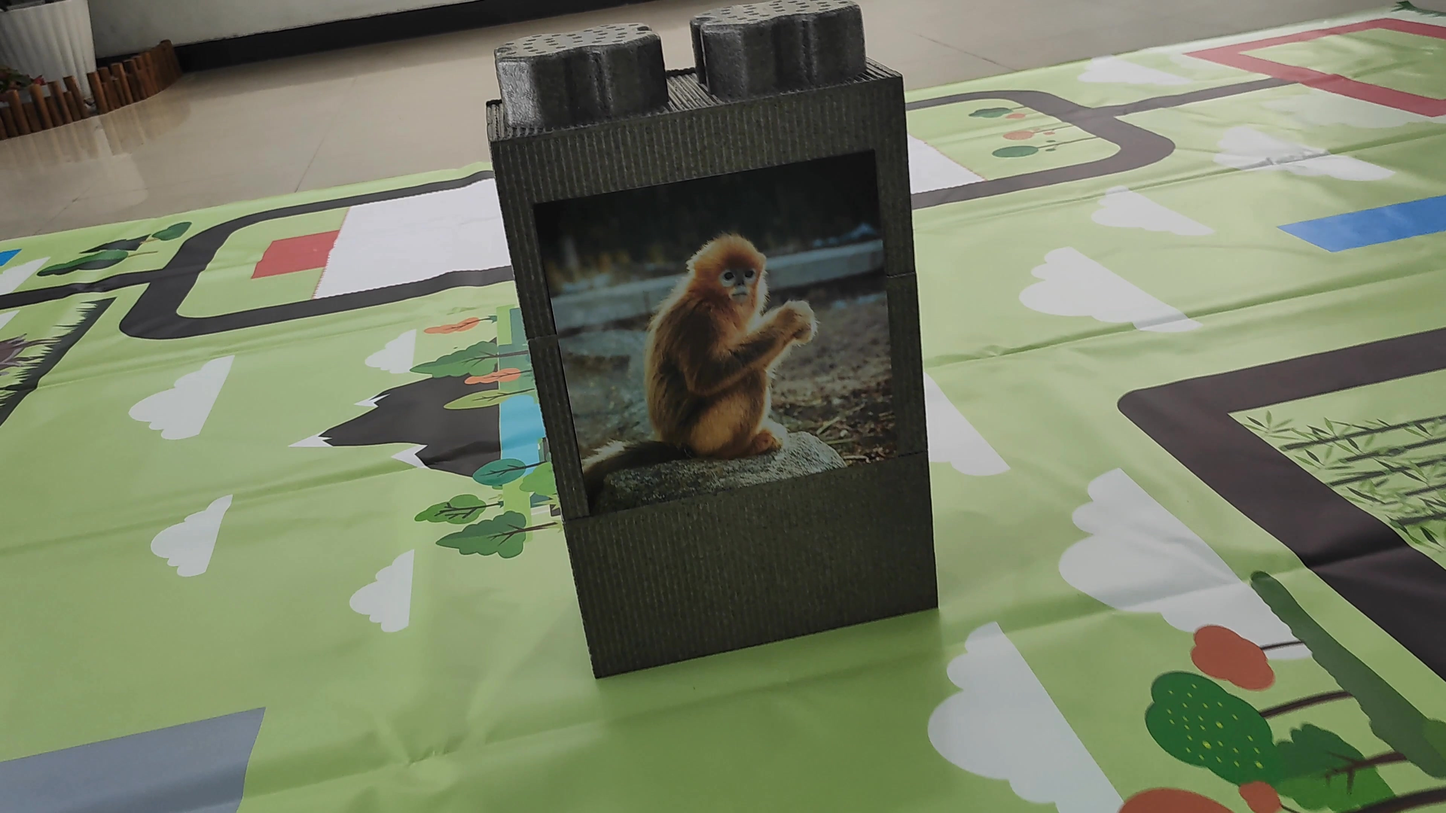monkey: (574, 222, 825, 514)
